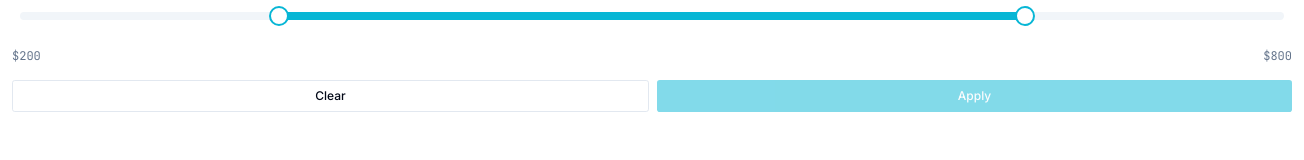
Scenario: PriceRangeSlider › clear functionality › resets local state to min/max when Clear is clicked
Expected: the text "$200" is shown, [12,48,41,64]
Expected: the text "$800" is shown, [1263,48,1292,64]
Click the button "Clear" at (330, 96), box [12,80,649,112]
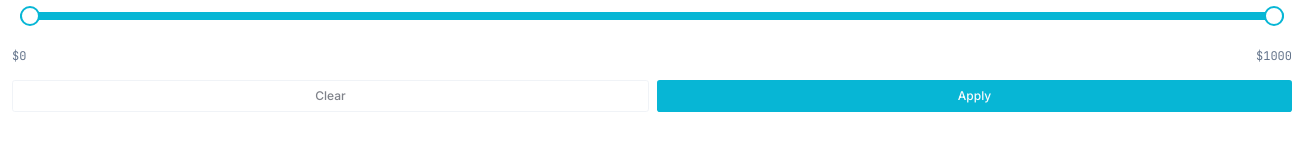
Expected: the text "$0" is shown, [12,48,26,64]
Expected: the text "$1000" is shown, [1256,48,1292,64]
